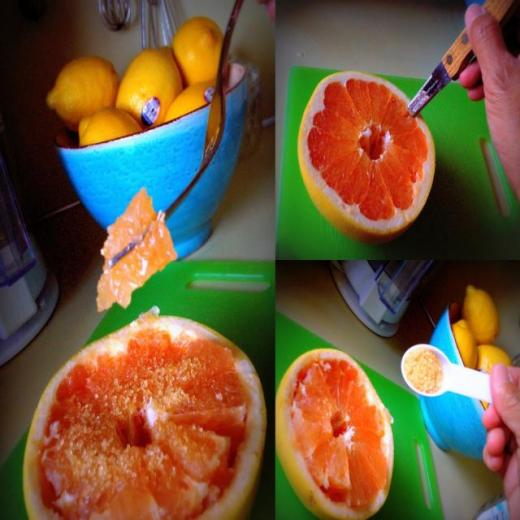Grape: (116, 43, 182, 124), (49, 51, 113, 114), (174, 16, 227, 84), (82, 106, 145, 144), (165, 82, 217, 122)
